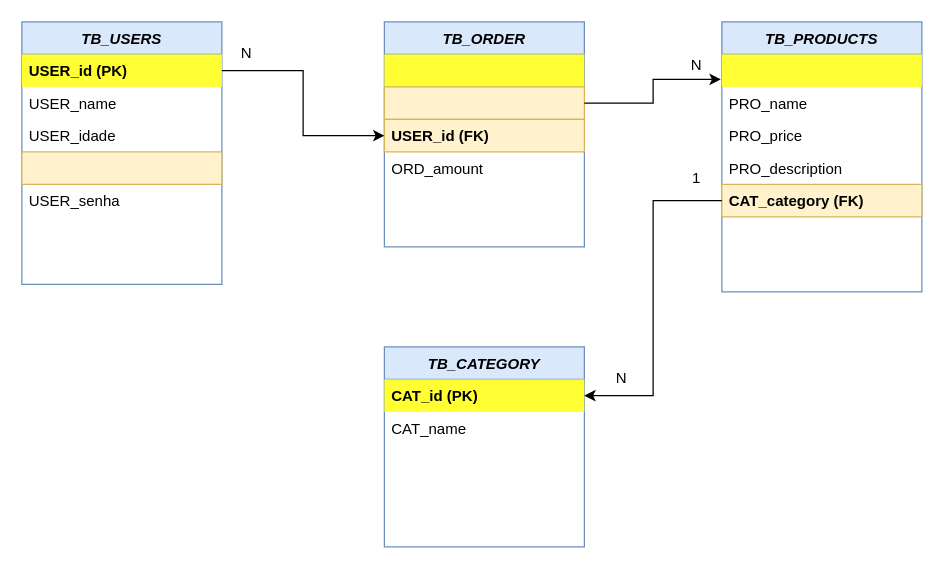
The diagram is 944 pixels wide and 569 high, and some of its shapes have lost their labels. The centre of each missing label's shape, as x and y in pixels:
"ORD_id (PK)" belongs at point 484,70.
"PRO_id (FK)" belongs at point 483,102.
"PRO_id (PK)" belongs at point 821,70.
"USER_email(UK)" belongs at point 121,167.
